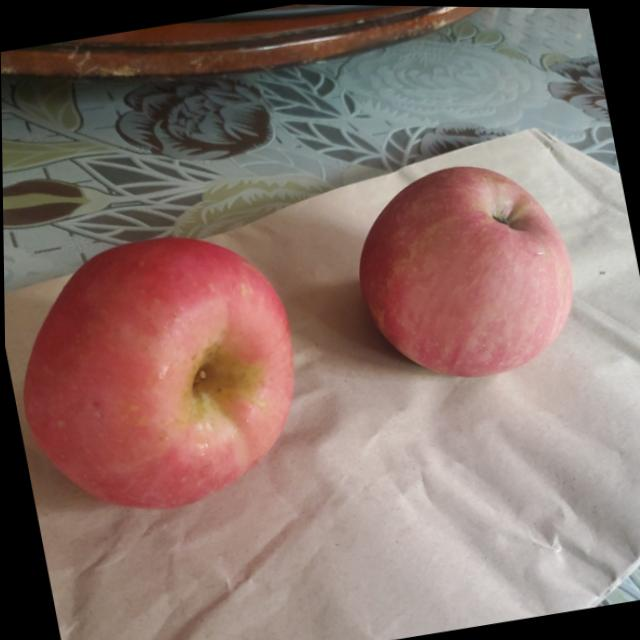apple: (3, 220, 314, 535), (338, 146, 585, 393)
